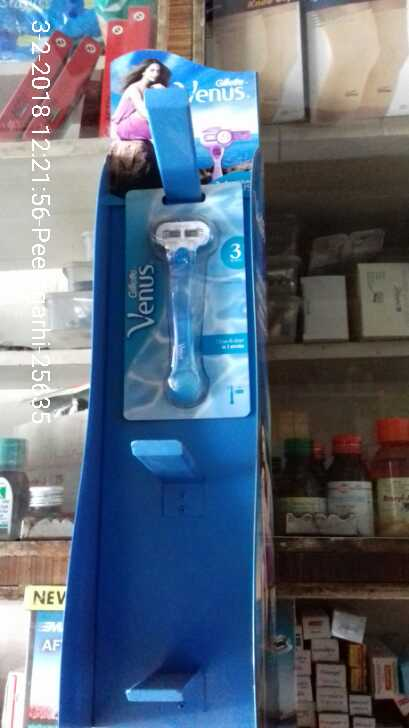venus: (121, 181, 259, 419)
